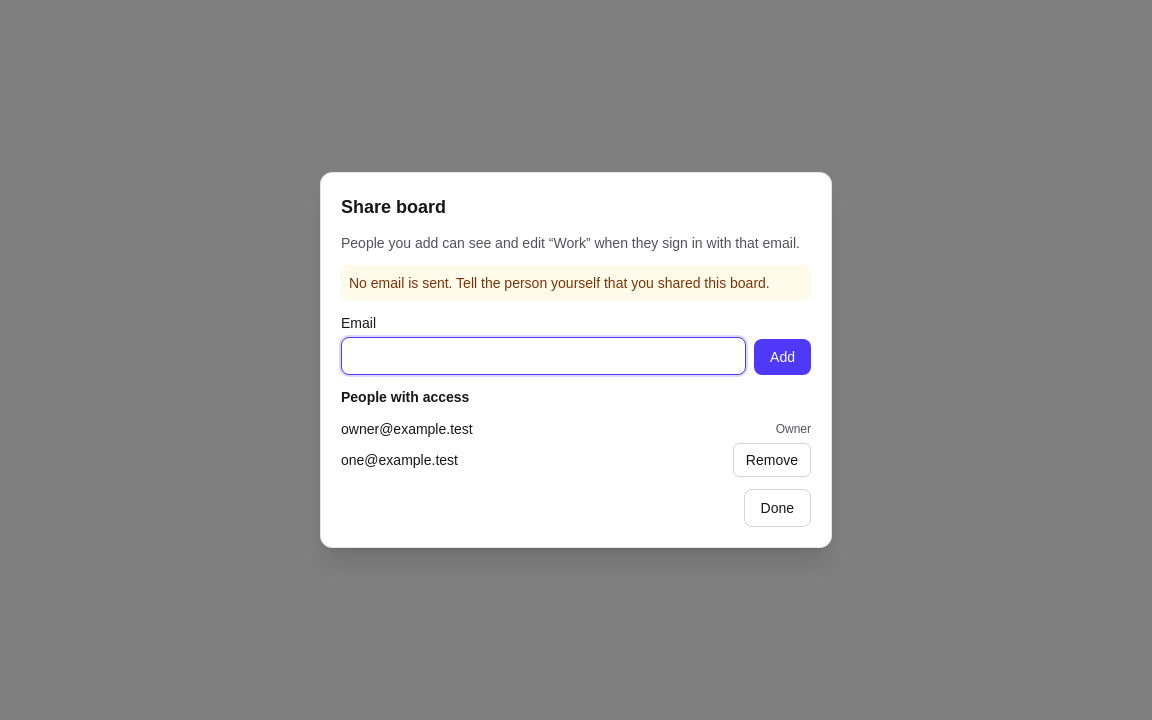
it: <ShareDialog /> › removes a person
Click the button with aria-label "Remove one@example.test" at x=772, y=460, box left=733, top=443, right=811, bottom=477
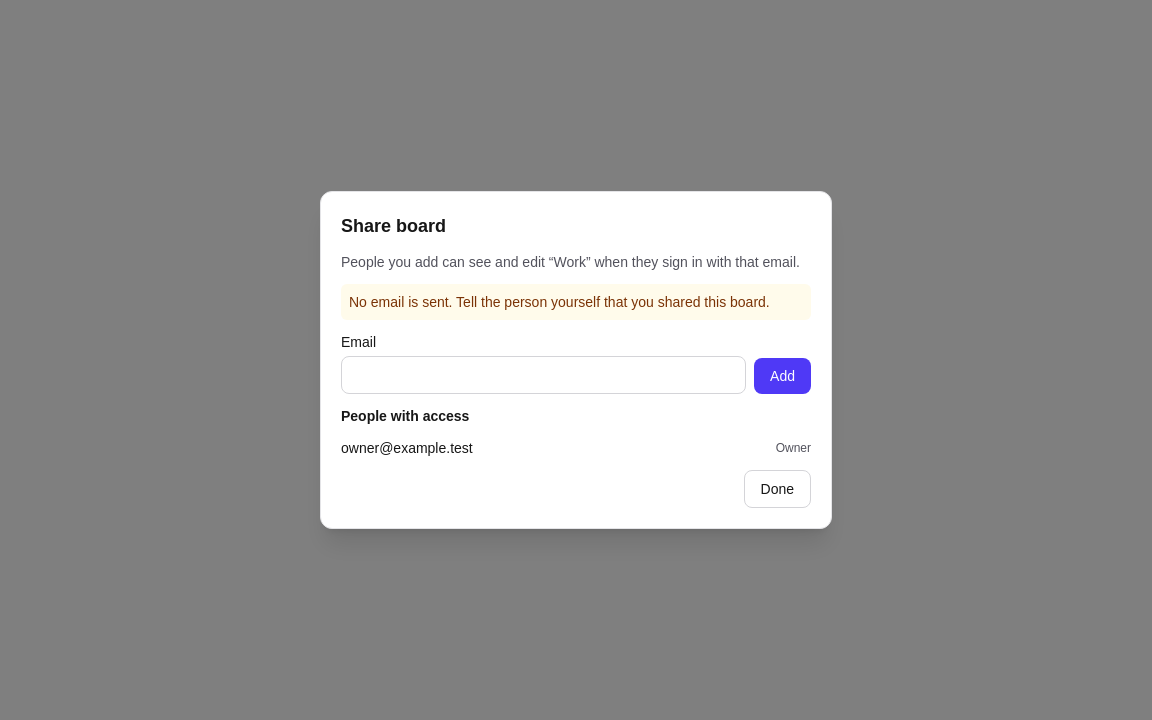
Expected: the text "one@example.test" is gone
